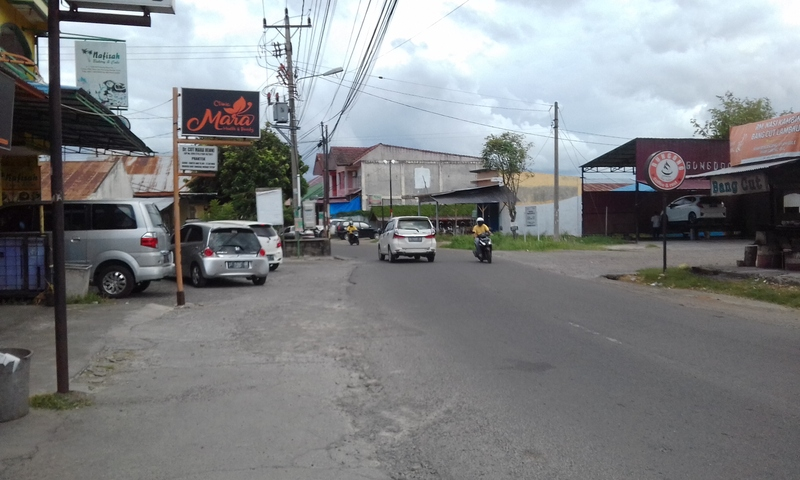car: (6, 194, 173, 302), (170, 218, 273, 292), (208, 217, 291, 273), (377, 214, 439, 265), (659, 193, 730, 231)
motorcycle: (469, 231, 498, 266)
person: (470, 215, 491, 253)
